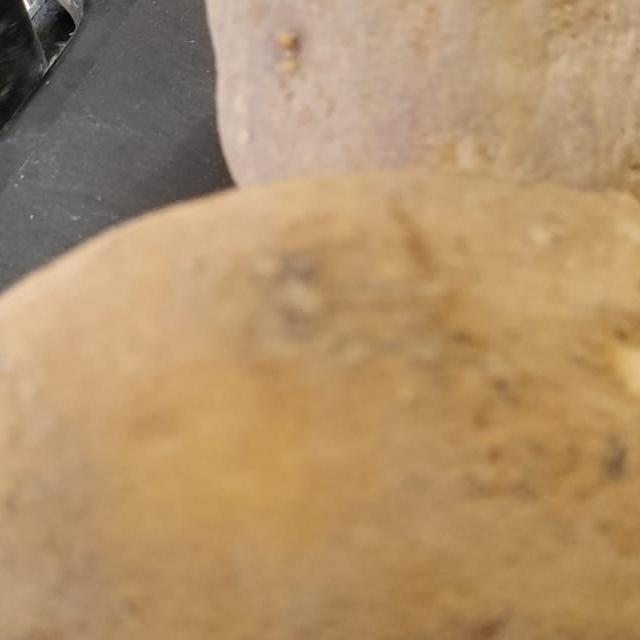potato: (0, 186, 640, 640), (203, 0, 640, 300)
